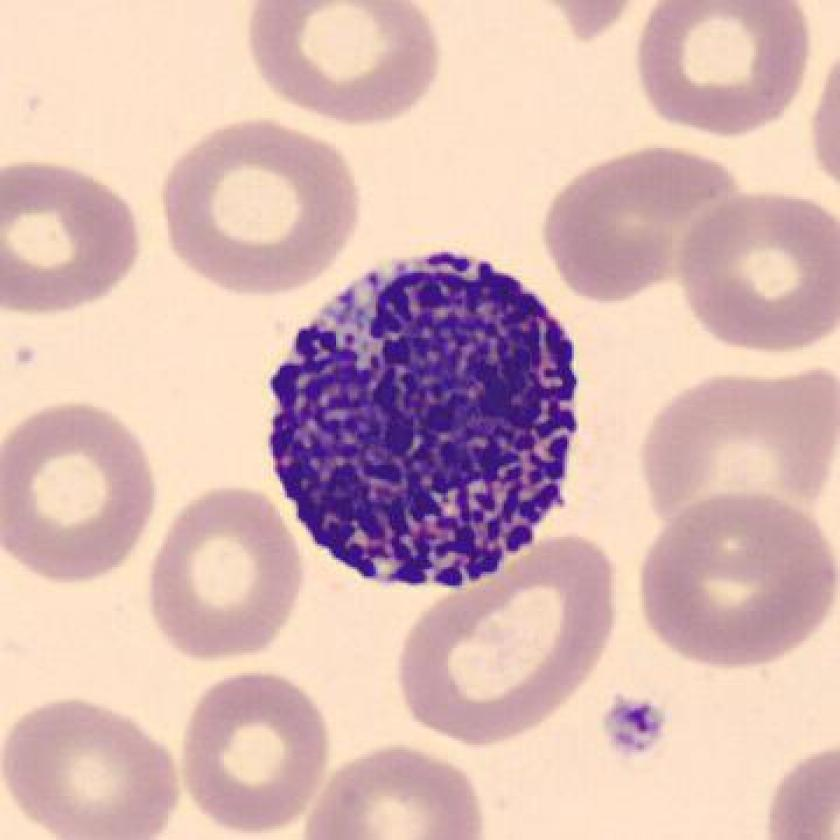basophil: (270, 244, 599, 596)
